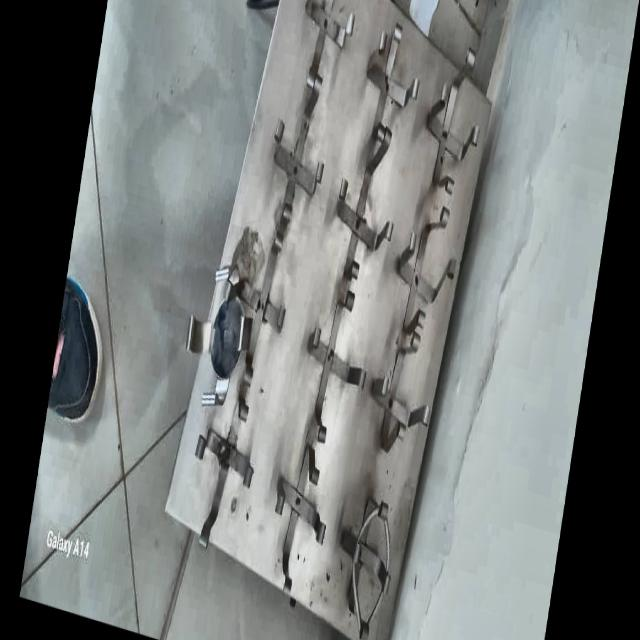Rotary Shaker: (160, 0, 510, 640)
